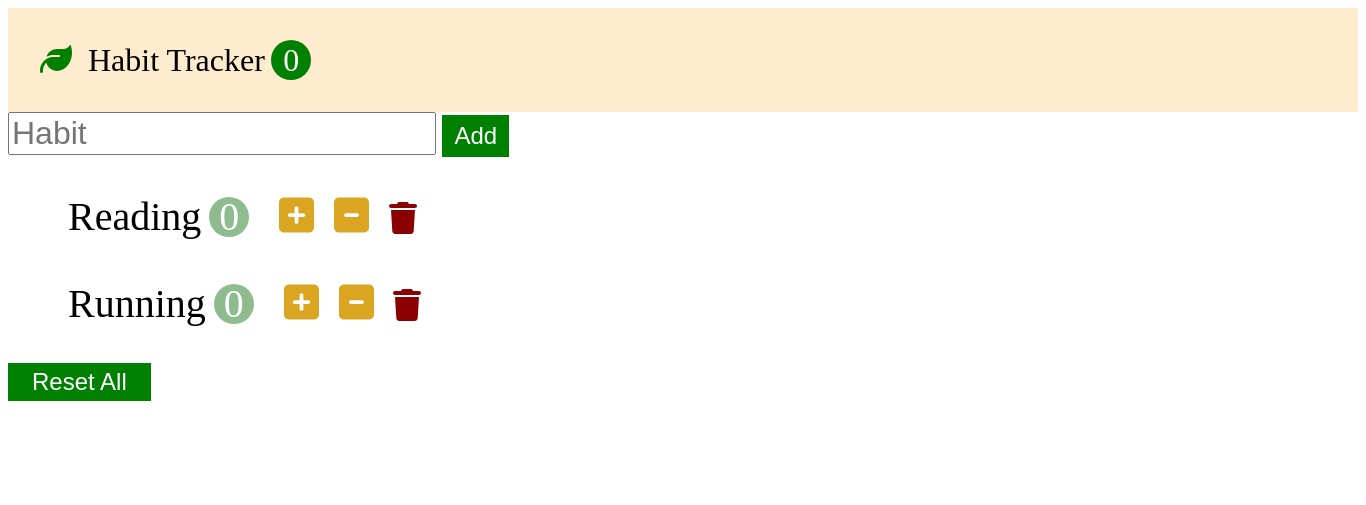
Test: Habit Tracker › 마지막에 새로운 habit 을 추가
The width and height of the screenshot is (1366, 505).
Type "New Habit" into the field with placeholder "Habit" at (222, 134), box [8,112,436,155]
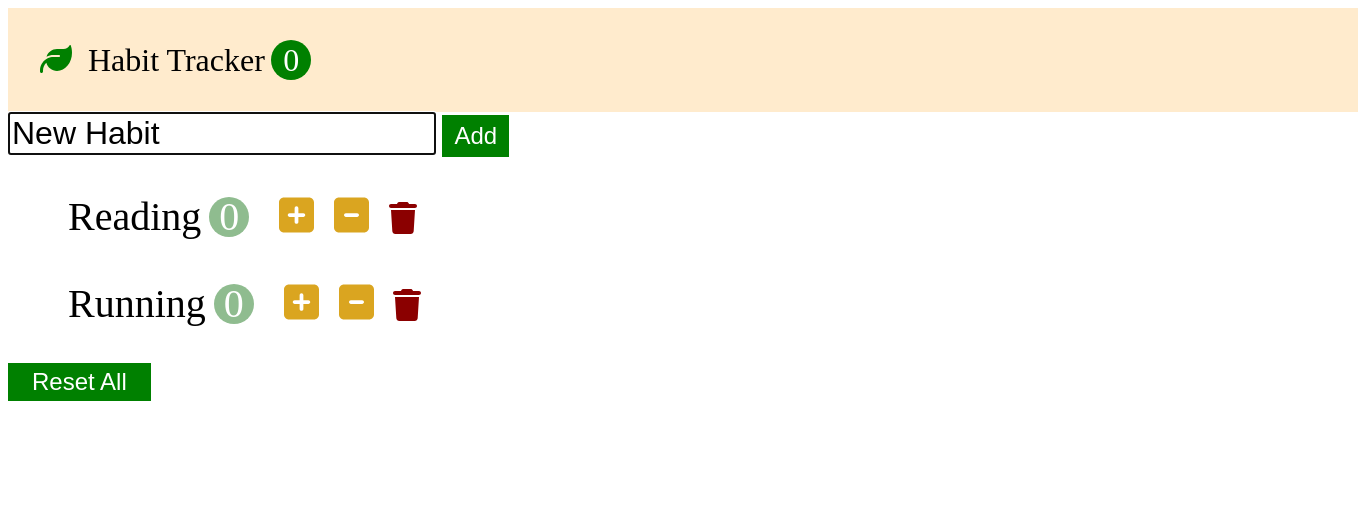
Click the button "Add" at (476, 136), box [442,115,509,157]
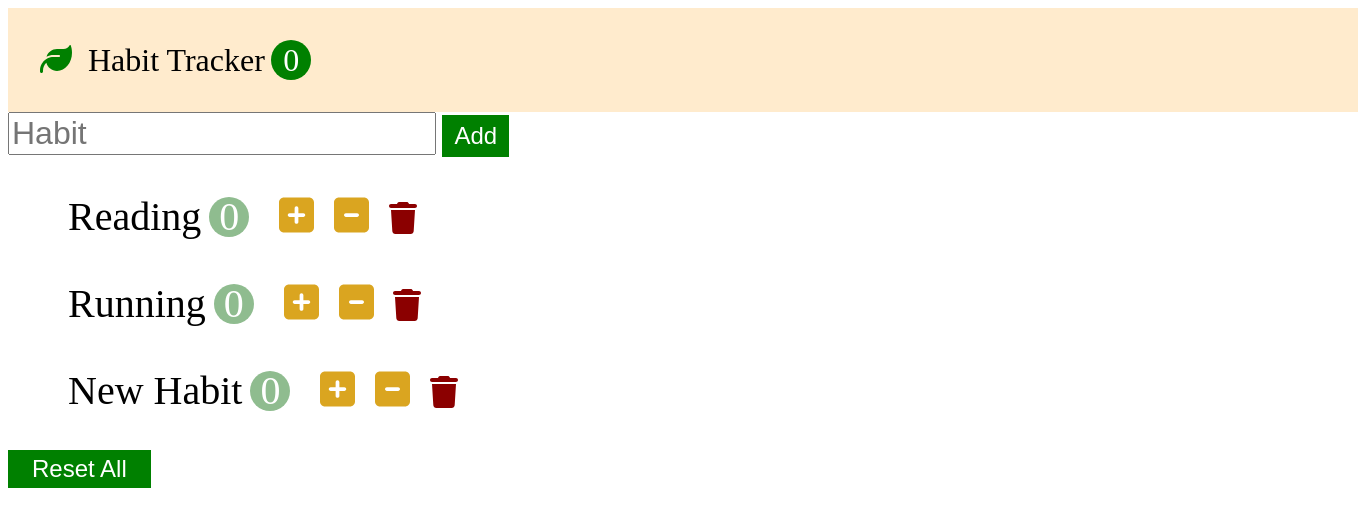
Now the text with test id "habit-name" reads "New Habit", box [68,368,242,413]
Now the text with test id "habit-count" next to "New Habit" reads "0", box [250,371,290,411]
